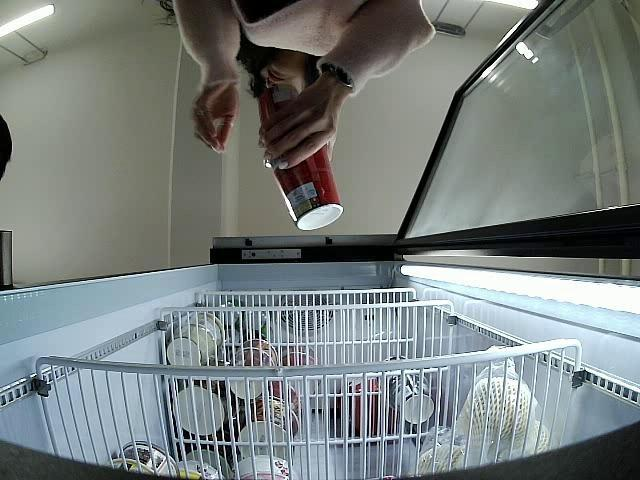02_shinRamen_S: (277, 144, 344, 232), (258, 86, 304, 132)
